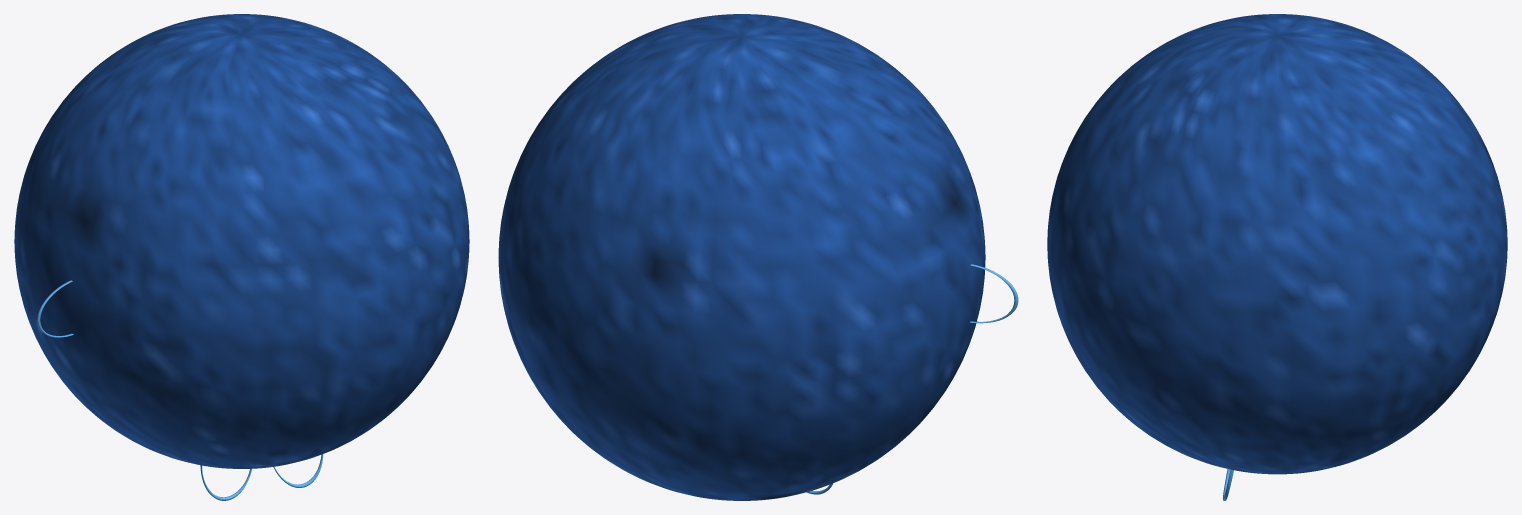
The model's file is Star_12.fbx.
3 views of the same model, side by side, from view 1: azimuth 30°, elevation 25°; view 2: azimuth 150°, elevation 25°; view 3: azimuth 270°, elevation 25° (orthographic). The views are drawn at different scales.
Parts seen in each view (by area): view 1: Star_12; view 2: Star_12; view 3: Star_12.
Part boxes in pixels (bbox=[...]): Star_12: bbox=[14, 14, 469, 500]; Star_12: bbox=[498, 14, 1018, 500]; Star_12: bbox=[1047, 14, 1507, 500].
Size of the model in its own units: 217 by 214 by 200.
